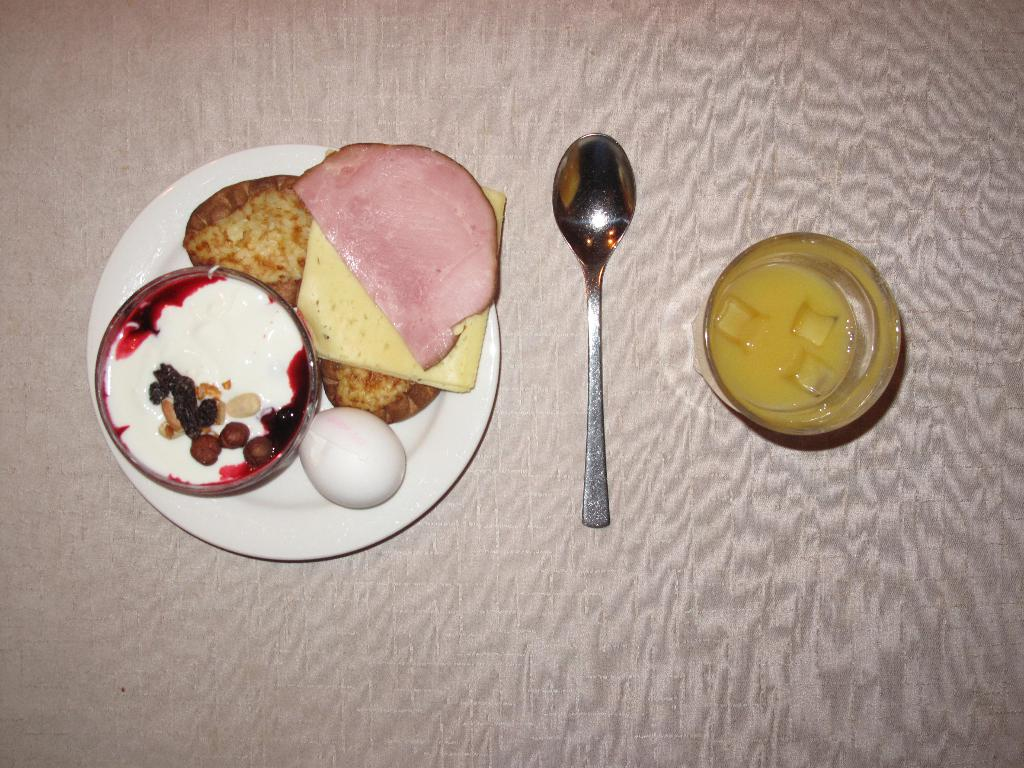plate: (85, 138, 502, 560)
